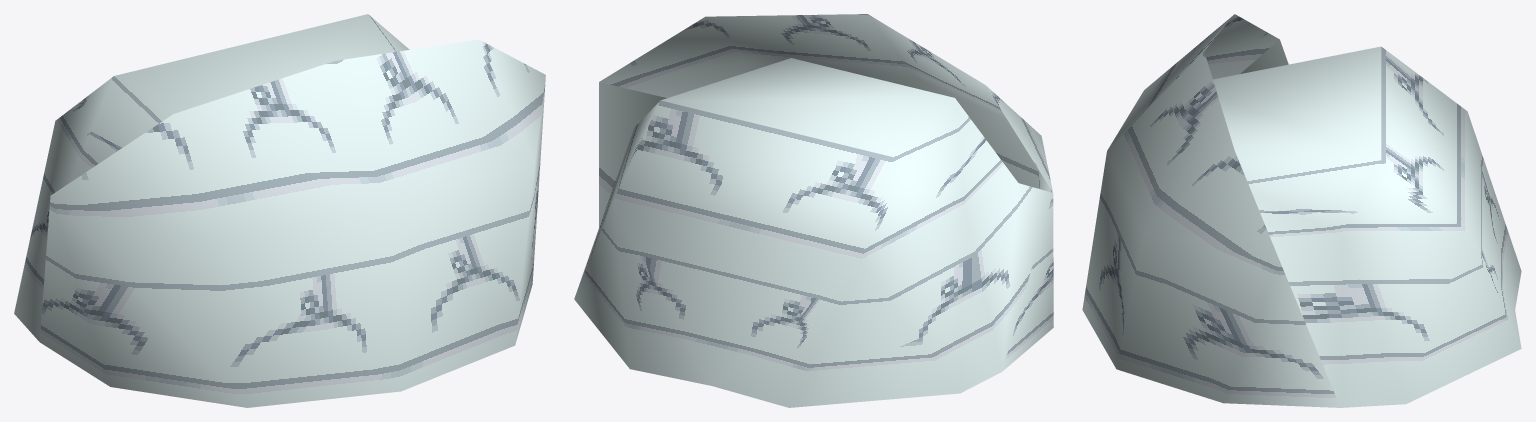
File: code_head04.gltf
3 views of the same model, side by side, from view 1: azimuth 30°, elevation 25°; view 2: azimuth 150°, elevation 25°; view 3: azimuth 270°, elevation 25° (orthographic). The views are drawn at different scales.
Parts seen in each view (by area): view 1: code_head04; view 2: code_head04; view 3: code_head04.
Part boxes in pixels (x1,y1,x2,y2): code_head04: [14, 14, 545, 407]; code_head04: [574, 14, 1053, 407]; code_head04: [1082, 14, 1521, 407].
Size of the model in its own units: 0.719 by 0.3909 by 0.6016.
Materials: 1 (1 with a texture image).
